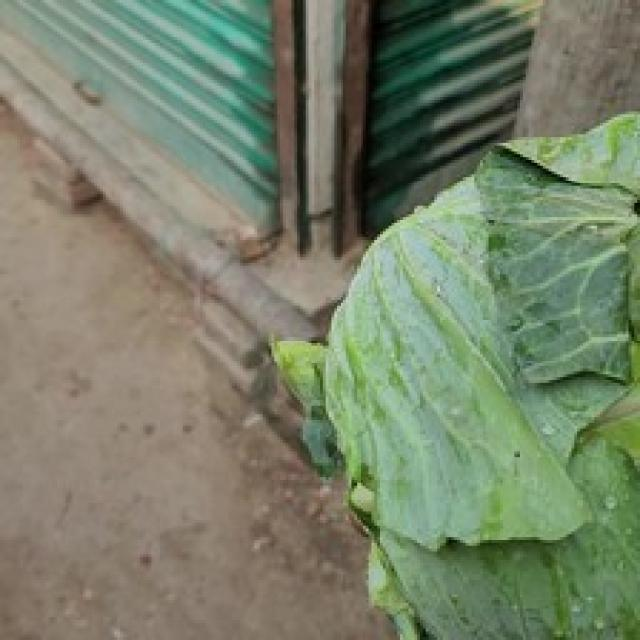Cabbage: (269, 106, 637, 637)
